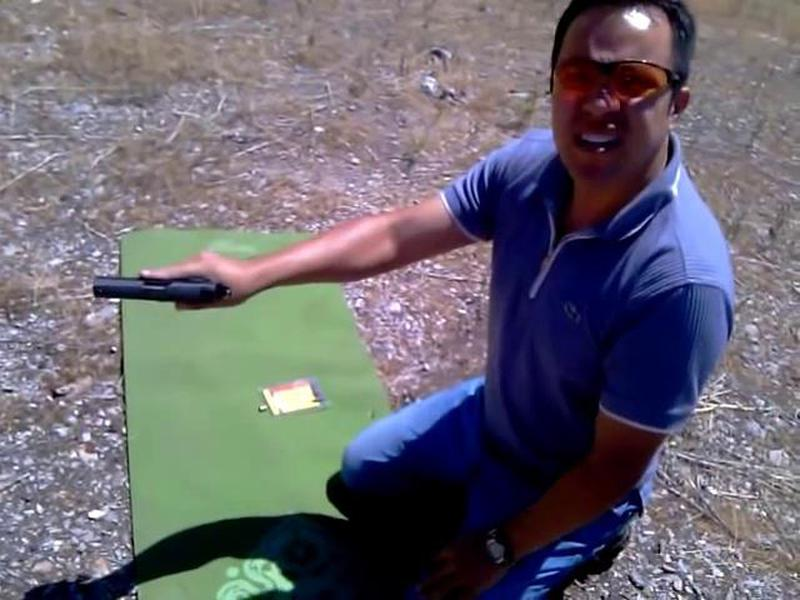Pistola: (76, 254, 237, 327)
